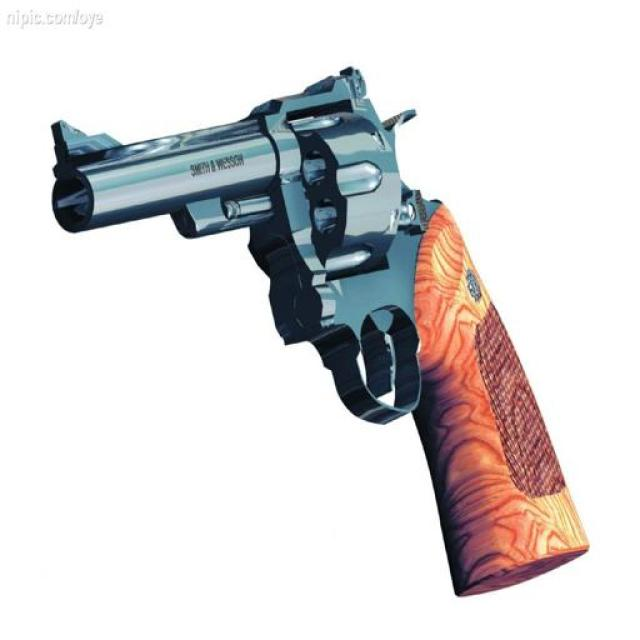pistol: (45, 66, 582, 602)
